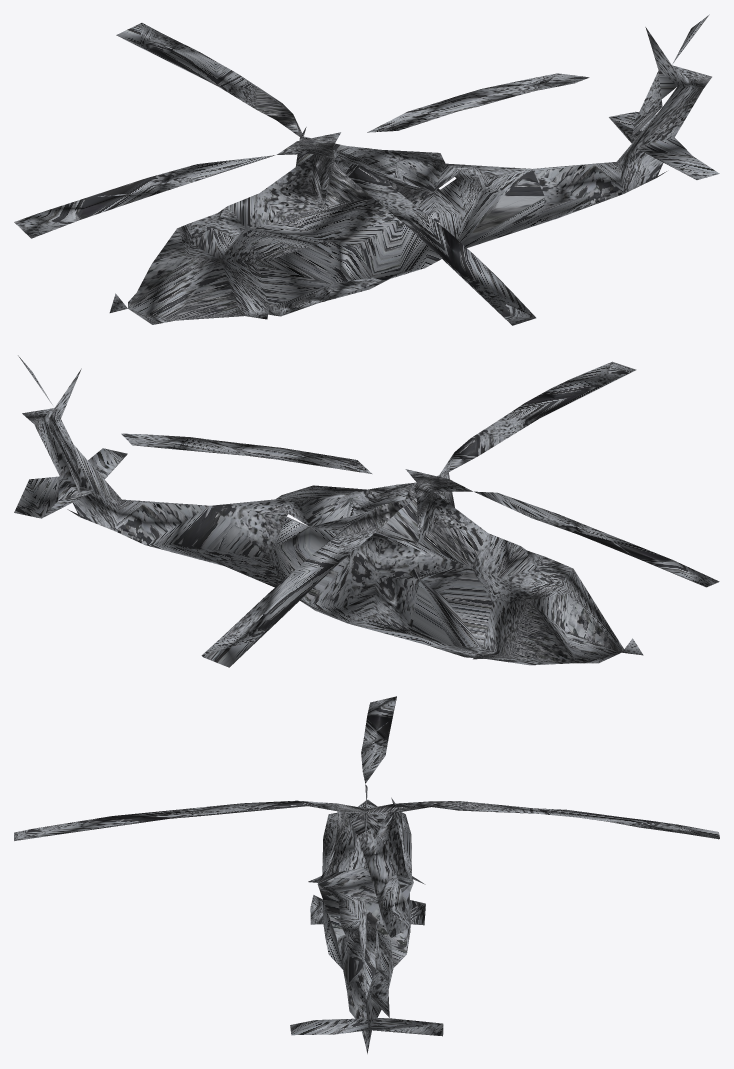
The model's file is mh-60r-seahawk-meshy-ultra-v1.glb.
3 renders of one model, top to bottom at view 1: azimuth 30°, elevation 25°; view 2: azimuth 150°, elevation 25°; view 3: azimuth 270°, elevation 25°, orthographic. The views are drawn at different scales.
Bounding box in the file's own units: 1.89 × 0.4779 × 1.9.
Materials: 1 (1 with a texture image).
